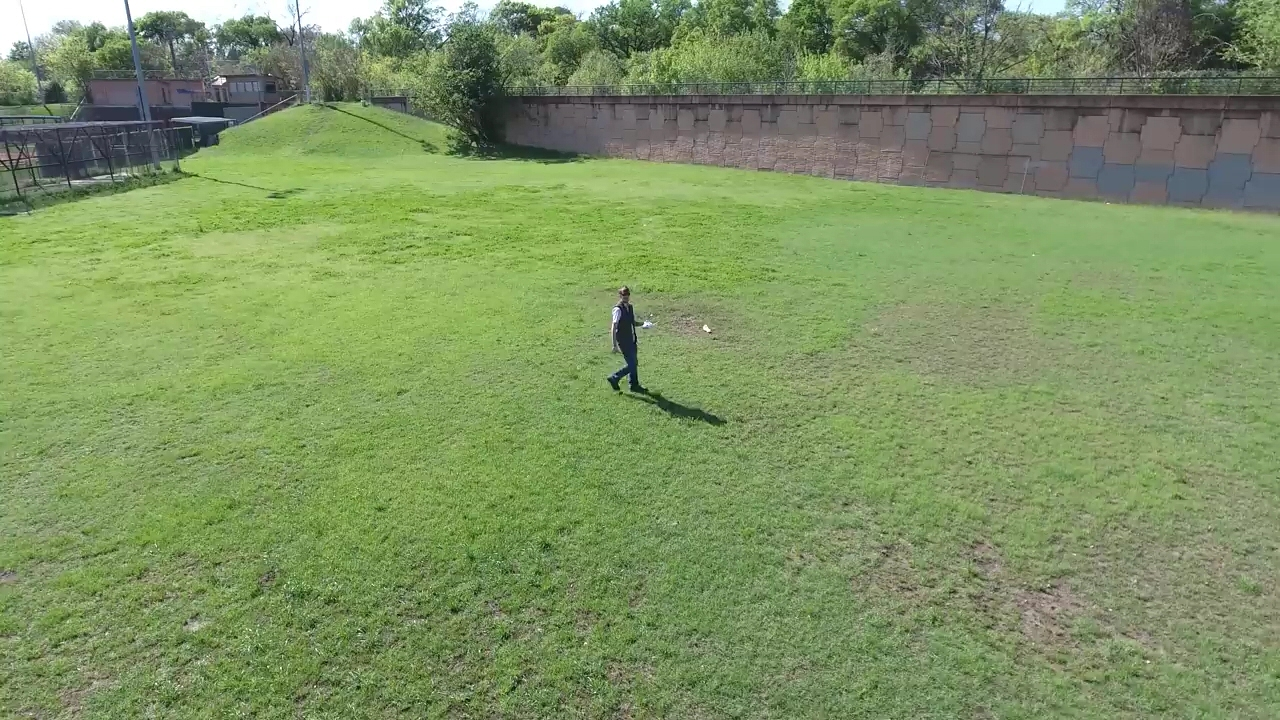insan: (605, 284, 652, 395)
